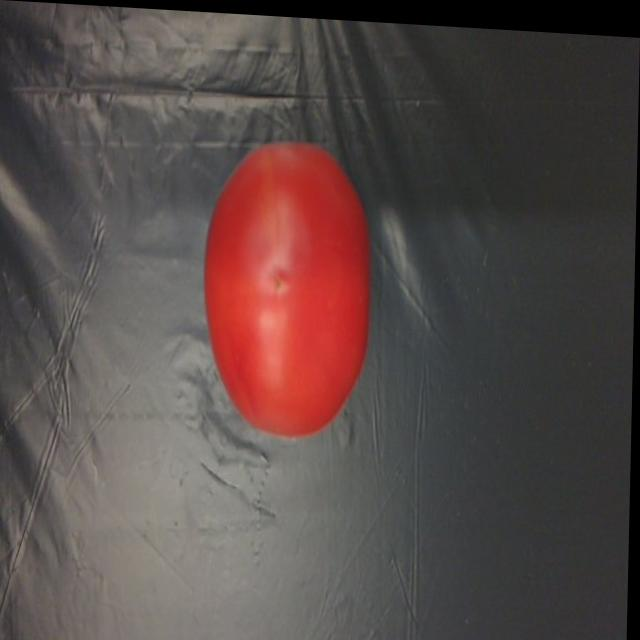kirmizi: (202, 138, 379, 435)
